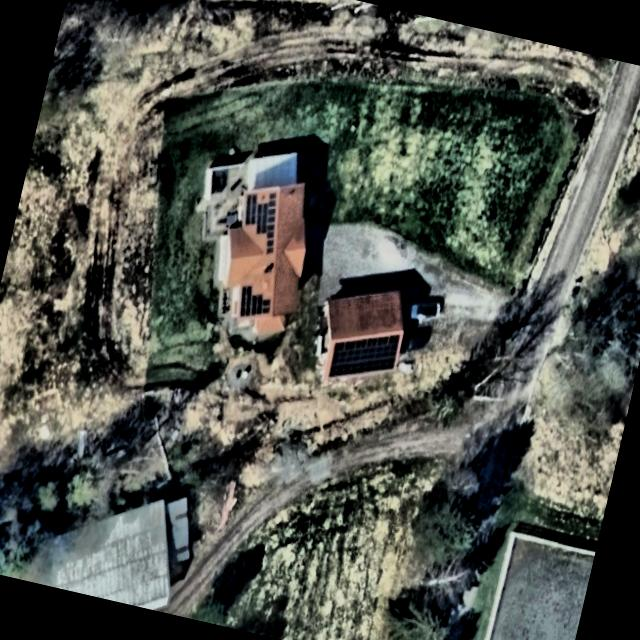roof_pv: (323, 318, 405, 396), (233, 184, 290, 258), (230, 278, 282, 334)
